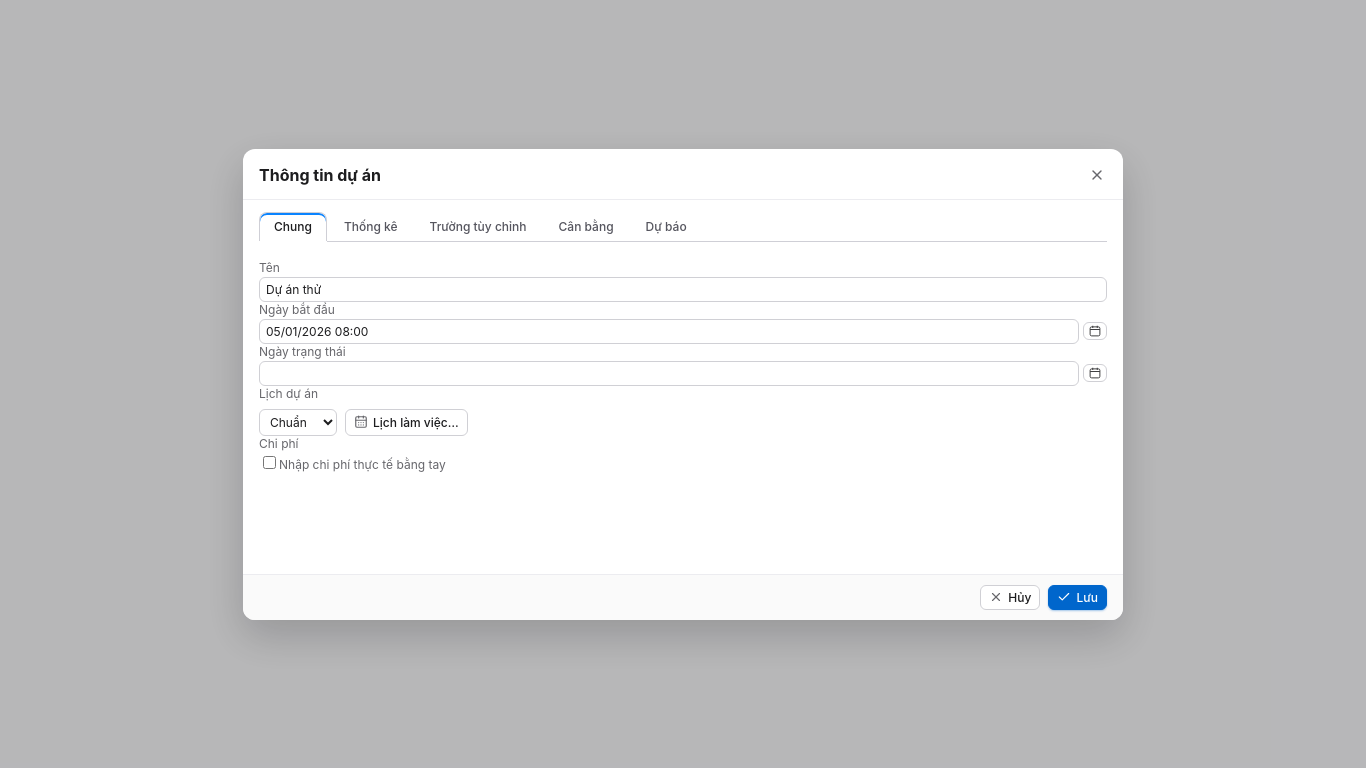
Test case: ProjectDialog sections › shows the statistics with the baseline and its variance
Click the tab "Thống kê".
click(371, 226)  # box [329,212,413,240]
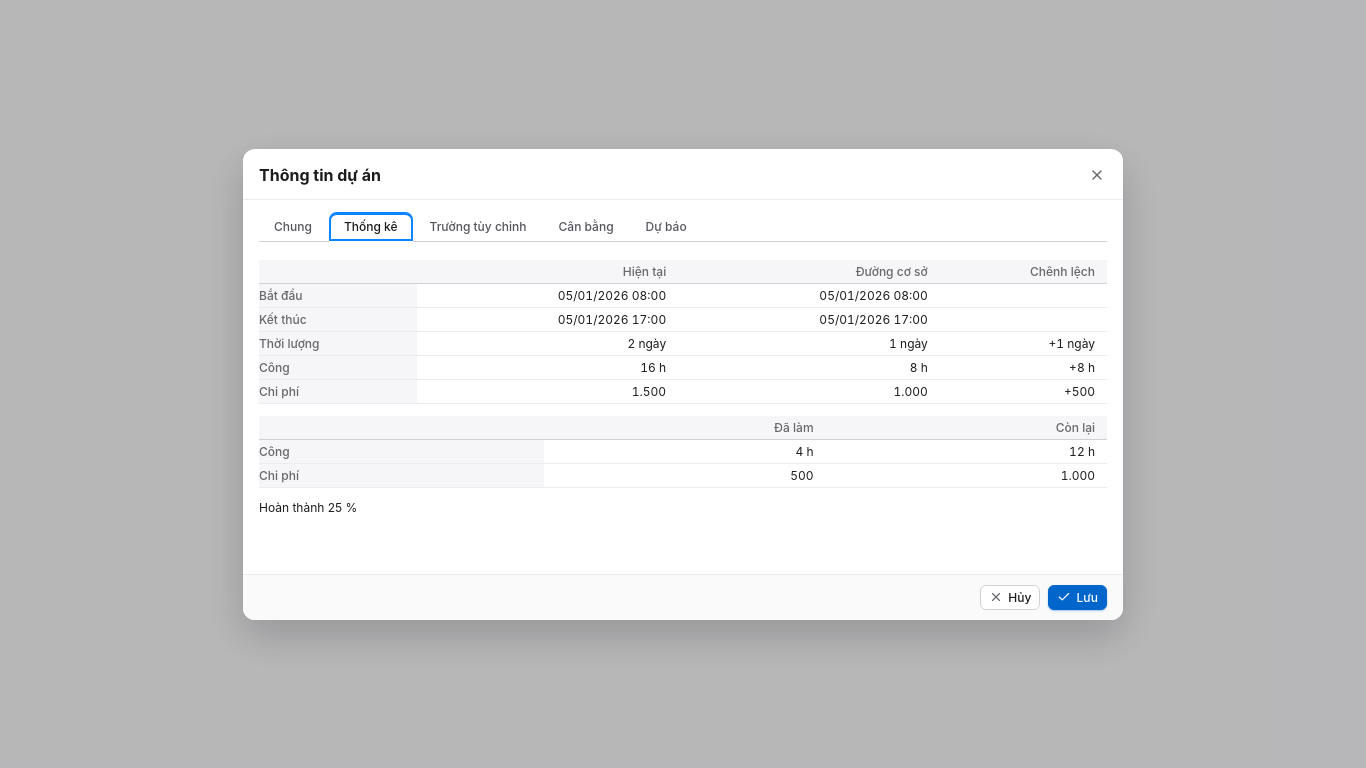
Result: the text "+500" is shown at [940,379,1107,403]
Result: the text "Hoàn thành 25 %" is shown at [259,500,357,514]
